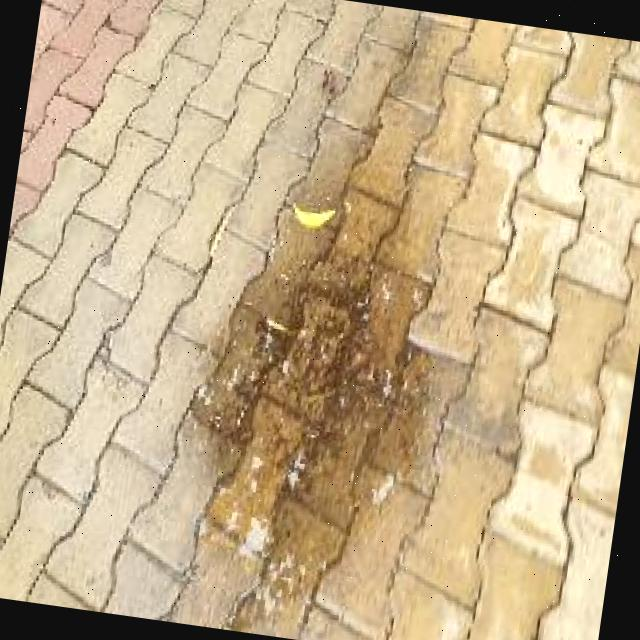waterlogging: (167, 230, 452, 598)
